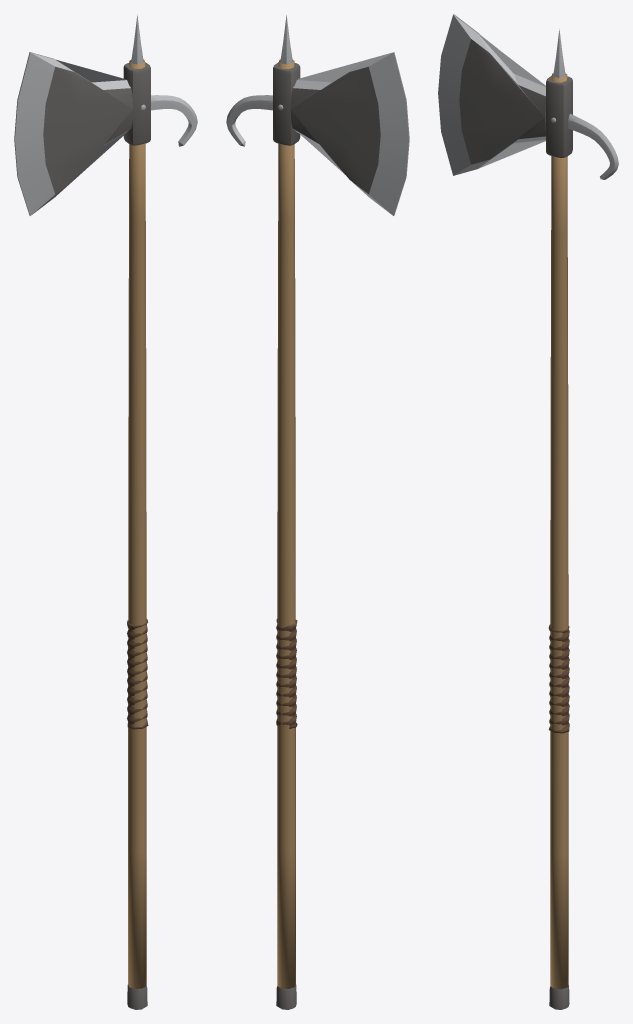
Rendered from horsechopper.glb.
The picture shows the model from 3 angles, left to right: view 1: azimuth 30°, elevation 25°; view 2: azimuth 150°, elevation 25°; view 3: azimuth 330°, elevation 25°; orthographic projection.
Visible parts, largest first — view 1: horsechopper; view 2: horsechopper; view 3: horsechopper.
Part boxes in pixels (x1,y1,x2,y2): horsechopper: (14, 15, 197, 1009); horsechopper: (226, 15, 409, 1009); horsechopper: (438, 14, 618, 1009).
Bounding box in the file's own units: 0.9251 × 4.79 × 0.12.
